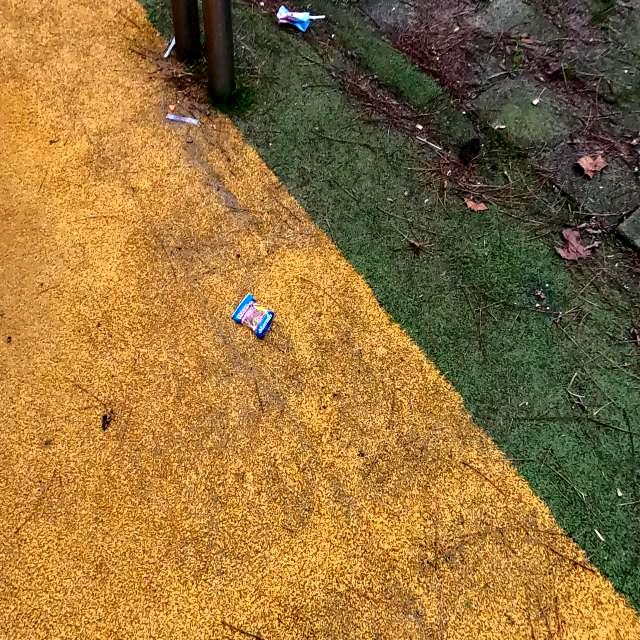Plastic: (229, 290, 275, 340)
